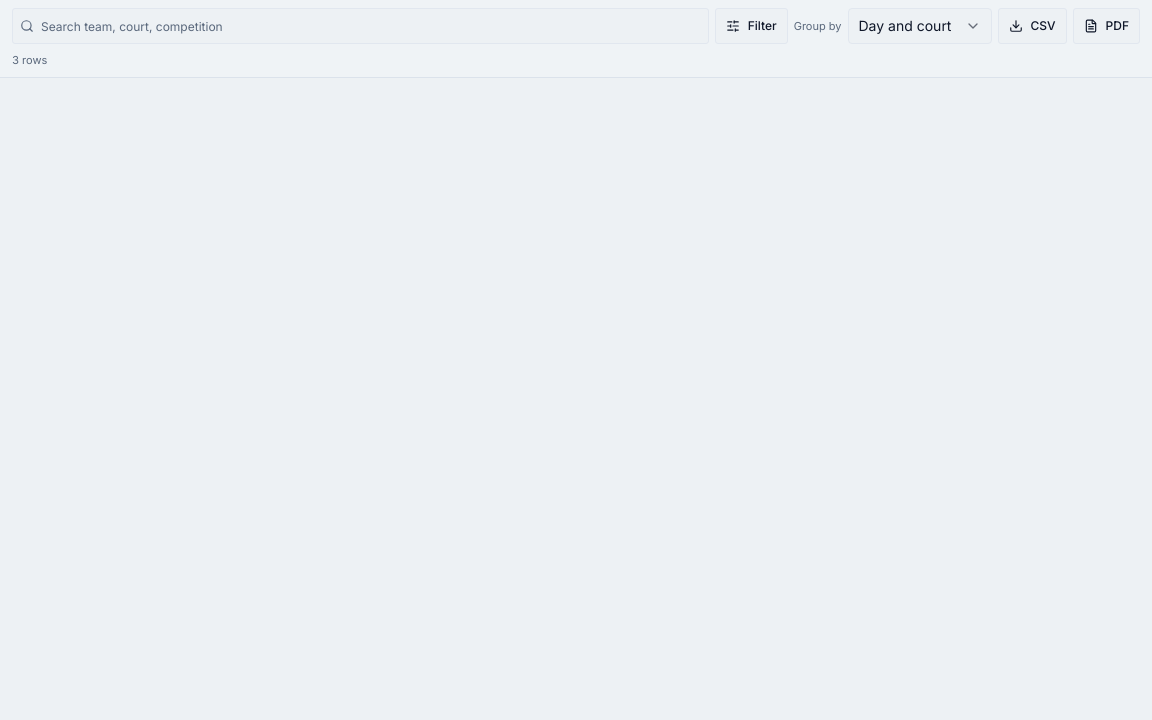
it: PreviewToolbar › closes the drawer from its own footer
Click the button with test id "open-filters".
click(751, 26)  # box [715,8,788,44]
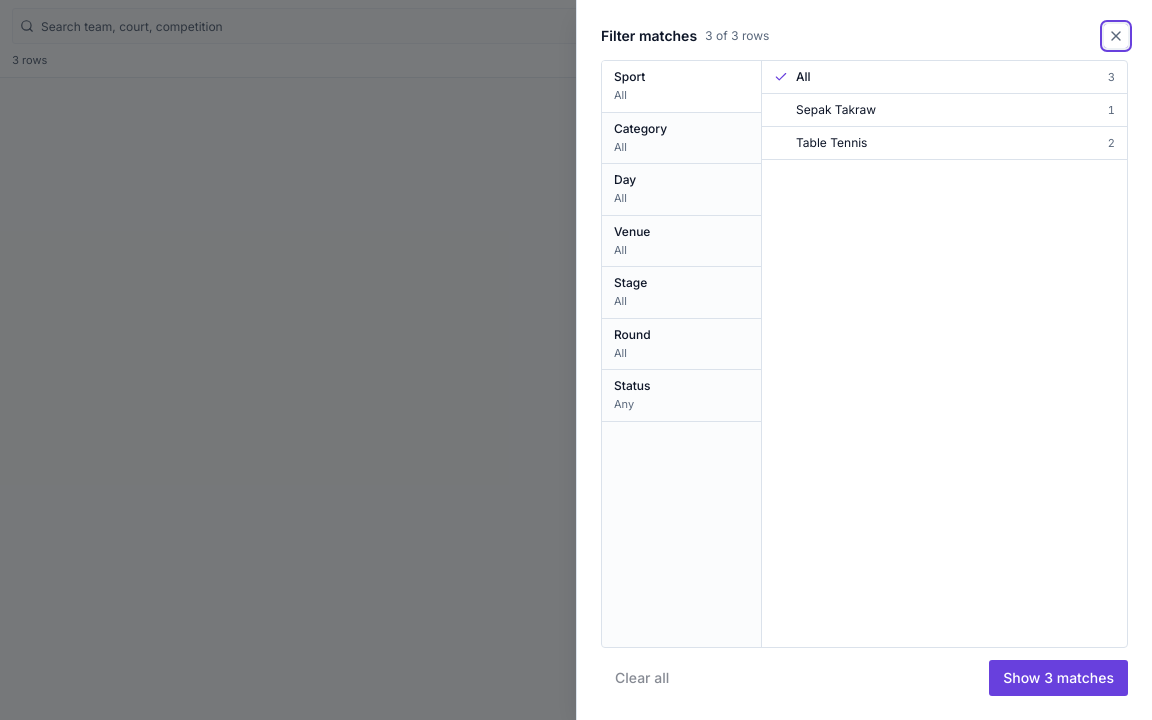
Click the button with test id "drawer-done".
click(1059, 678)  # box [989,660,1128,696]
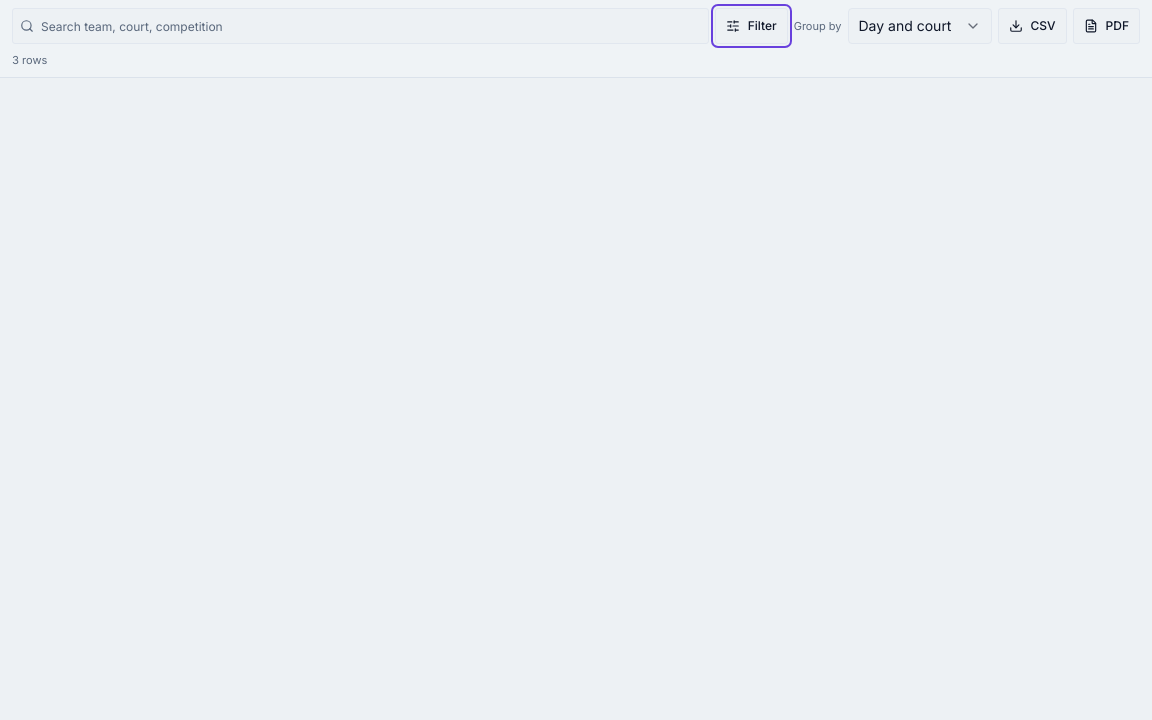
Result: the element with test id "filter-drawer" is gone
